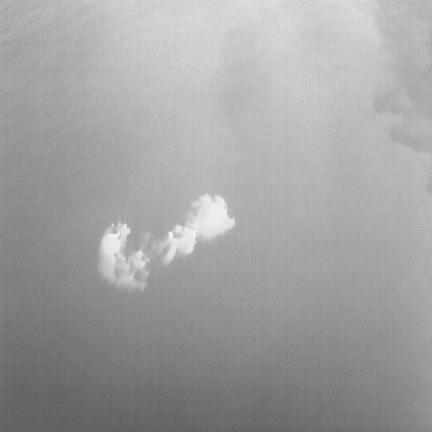flukeprints: (99, 224, 148, 287), (186, 194, 234, 239), (163, 225, 196, 263)
